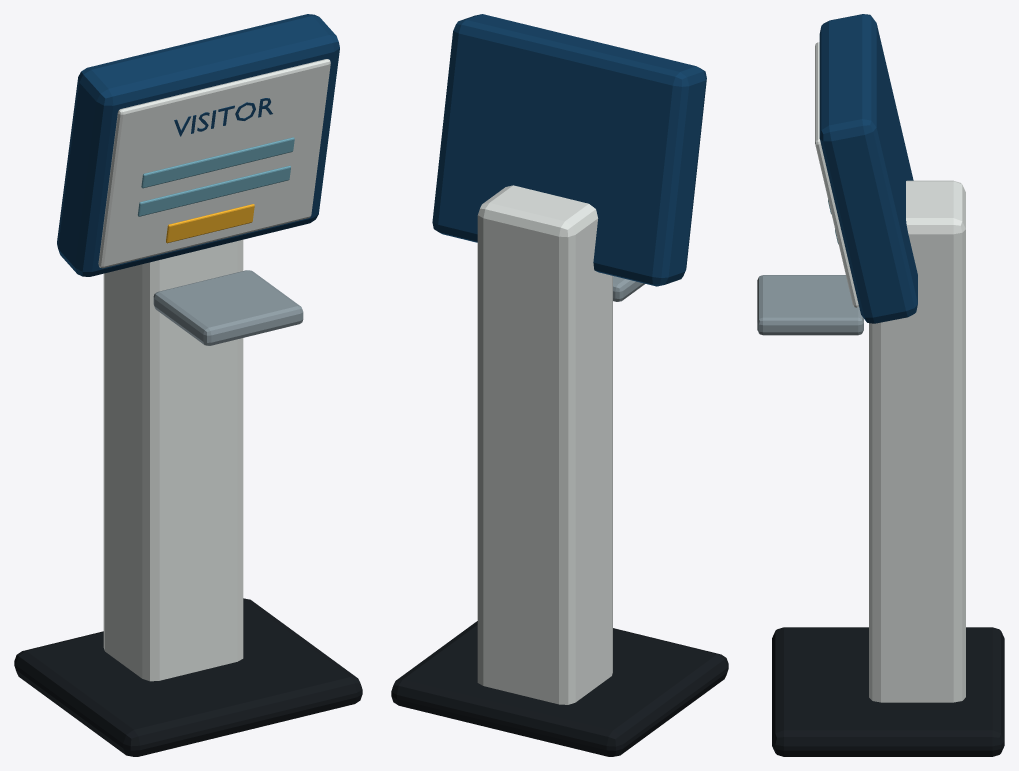
The model's file is edited.glb.
The picture shows the model from 3 angles, left to right: view 1: azimuth 30°, elevation 25°; view 2: azimuth 150°, elevation 25°; view 3: azimuth 270°, elevation 25°; orthographic projection. The views are drawn at different scales.
Parts seen in each view (by area): view 1: PEDESTAL, DISPLAY_Glass, BASE_Plate, DISPLAY_Housing, BADGE_Tray, UI_Field, UI_Field.001, UI_CheckInButton, EDITABLE_Title; view 2: PEDESTAL, DISPLAY_Housing, BASE_Plate; view 3: PEDESTAL, BASE_Plate, DISPLAY_Housing, BADGE_Tray, DISPLAY_Glass.
Part boxes in pixels (left/top/right/bottom): PEDESTAL: left=103, top=239, right=243, bottom=681; DISPLAY_Glass: left=98, top=59, right=330, bottom=268; BASE_Plate: left=14, top=598, right=362, bottom=756; DISPLAY_Housing: left=57, top=14, right=339, bottom=276; BADGE_Tray: left=153, top=270, right=303, bottom=345; UI_Field: left=141, top=137, right=294, bottom=188; UI_Field.001: left=137, top=165, right=290, bottom=216; UI_CheckInButton: left=166, top=204, right=254, bottom=243; EDITABLE_Title: left=174, top=98, right=272, bottom=136; PEDESTAL: left=477, top=185, right=612, bottom=704; DISPLAY_Housing: left=432, top=14, right=706, bottom=286; BASE_Plate: left=391, top=621, right=728, bottom=756; PEDESTAL: left=869, top=180, right=965, bottom=702; BASE_Plate: left=772, top=627, right=1004, bottom=756; DISPLAY_Housing: left=819, top=14, right=917, bottom=323; BADGE_Tray: left=757, top=275, right=863, bottom=335; DISPLAY_Glass: left=815, top=42, right=858, bottom=307.
Size of the model in its own units: 0.56 by 1.45 by 0.51.
